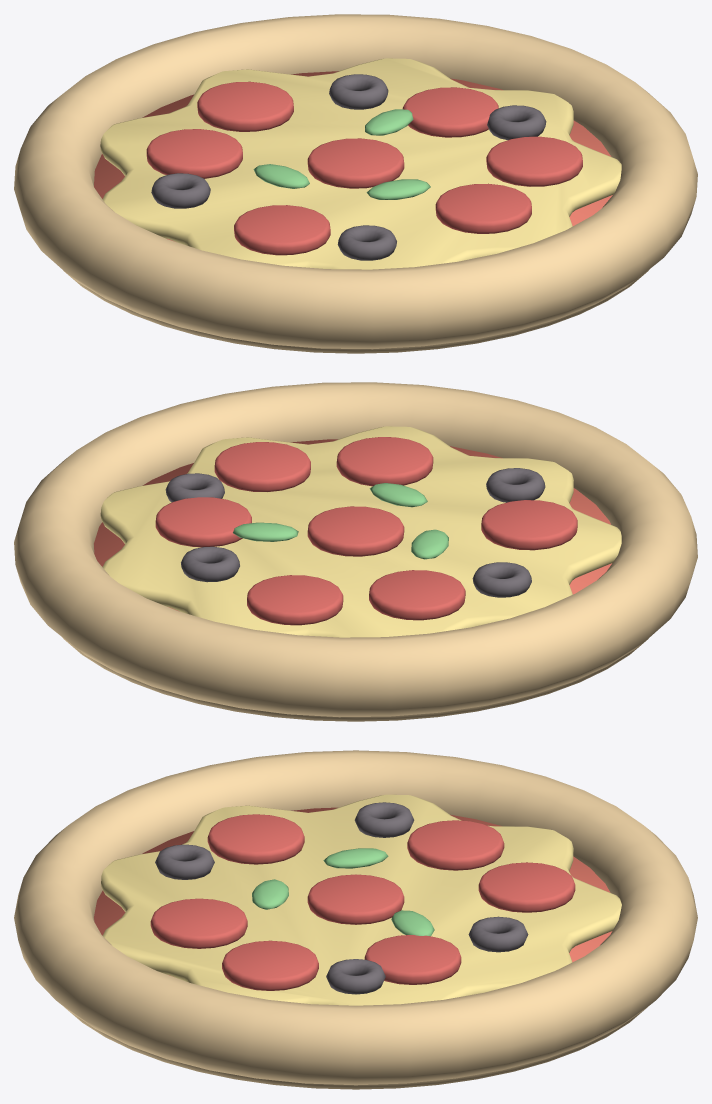
Rendered from sk_food_pizza.fbx.
The picture shows the model from 3 angles, top to bottom: view 1: azimuth 30°, elevation 25°; view 2: azimuth 150°, elevation 25°; view 3: azimuth 270°, elevation 25°; orthographic projection.
Parts seen in each view (by area): view 1: Pizza_Crust, Pizza_Cheese, Pepperoni_5, Pepperoni_4, Pepperoni_3, Pepperoni_6, Pepperoni_0, Pepperoni_2, Pepperoni_1, Pizza_Base, Pizza_Sauce, Olive_0 (+6 smaller); view 2: Pizza_Crust, Pizza_Cheese, Pepperoni_0, Pepperoni_6, Pepperoni_2, Pepperoni_4, Pepperoni_5, Pepperoni_3, Pepperoni_1, Pizza_Base, Pizza_Sauce, Olive_3 (+6 smaller); view 3: Pizza_Crust, Pizza_Cheese, Pepperoni_6, Pepperoni_2, Pepperoni_3, Pepperoni_4, Pepperoni_5, Pepperoni_0, Pepperoni_1, Pizza_Base, Pizza_Sauce, Olive_0 (+6 smaller).
Boxes of the visible parts, <box> form: Pizza_Crust: <box>14,14,697,349</box>; Pizza_Cheese: <box>100,58,621,269</box>; Pepperoni_5: <box>486,136,582,186</box>; Pepperoni_4: <box>234,205,330,255</box>; Pepperoni_3: <box>435,183,531,233</box>; Pepperoni_6: <box>197,81,293,131</box>; Pepperoni_0: <box>307,138,404,188</box>; Pepperoni_2: <box>146,129,242,178</box>; Pepperoni_1: <box>402,87,498,137</box>; Pizza_Base: <box>64,269,649,353</box>; Pizza_Sauce: <box>94,71,612,241</box>; Olive_0: <box>329,74,388,109</box>; Pizza_Crust: <box>14,382,697,717</box>; Pizza_Cheese: <box>100,426,621,637</box>; Pepperoni_0: <box>307,506,404,556</box>; Pepperoni_6: <box>247,575,343,625</box>; Pepperoni_2: <box>369,570,465,620</box>; Pepperoni_4: <box>481,500,577,550</box>; Pepperoni_5: <box>214,442,310,491</box>; Pepperoni_3: <box>336,437,433,486</box>; Pepperoni_1: <box>155,497,251,547</box>; Pizza_Base: <box>62,637,647,721</box>; Pizza_Sauce: <box>94,439,611,611</box>; Olive_3: <box>472,562,531,597</box>; Pizza_Crust: <box>14,750,697,1085</box>; Pizza_Cheese: <box>101,794,621,1005</box>; Pepperoni_6: <box>478,862,575,912</box>; Pepperoni_2: <box>407,820,504,870</box>; Pepperoni_3: <box>150,898,247,948</box>; Pepperoni_4: <box>207,814,304,864</box>; Pepperoni_5: <box>222,940,318,990</box>; Pepperoni_0: <box>307,874,404,924</box>; Pepperoni_1: <box>364,935,461,984</box>; Pizza_Base: <box>65,1008,646,1089</box>; Pizza_Sauce: <box>94,807,612,975</box>; Olive_0: <box>468,916,528,952</box>.
Size of the model in its own units: 0.24 by 0.03 by 0.24.
